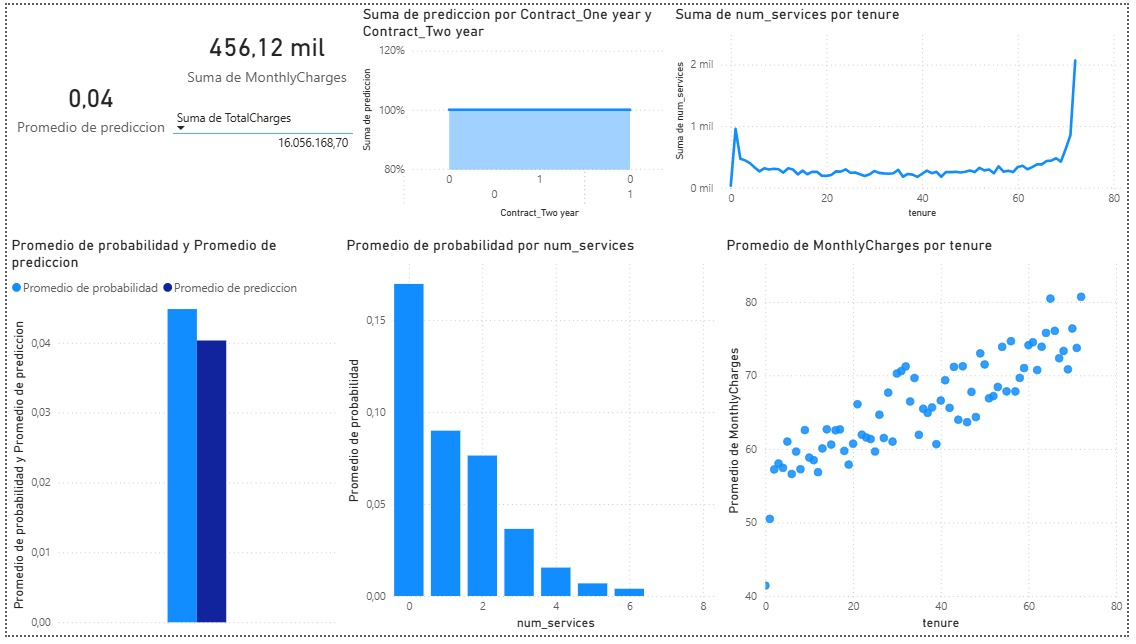

The dashboard page shown, as its layout file describes it:
{"tool":"powerbi","page":{"name":"Página 1","canvas":[1280,720],"ordinal":0},"visuals":[{"type":"card","fields":{"Values":["Avg(vw_churn_final.prediccion)"]},"box":[0,0,192.2,230],"z":0},{"type":"card","fields":{"Values":["Sum(vw_churn_final.MonthlyCharges)"]},"box":[192.2,0,208.8,115],"z":1000},{"type":"clusteredColumnChart","fields":{"Y":["Avg(vw_churn_final.probabilidad)","Avg(vw_churn_final.prediccion)"]},"box":[0,264.4,383.4,455.1],"z":2000},{"type":"clusteredColumnChart","fields":{"Category":["vw_churn_final.num_services"],"Y":["Avg(vw_churn_final.probabilidad)"]},"box":[383.4,264.4,434.3,455.1],"z":3000},{"type":"scatterChart","fields":{"Y":["Avg(vw_churn_final.MonthlyCharges)"],"X":["vw_churn_final.tenure"]},"box":[817.7,264.4,462.7,455.1],"z":4000},{"type":"tableEx","fields":{"Values":["Sum(vw_churn_final.TotalCharges)"]},"box":[183.1,113.5,217.9,98.4],"z":5000},{"type":"lineChart","fields":{"Y":["Sum(vw_churn_final.num_services)"],"Category":["vw_churn_final.tenure"]},"box":[758.8,0,521.2,248.8],"z":6000},{"type":"hundredPercentStackedAreaChart","fields":{"Category":["vw_churn_final.Contract_One year","vw_churn_final.Contract_Two year"],"Y":["Sum(vw_churn_final.prediccion)"]},"box":[401,0,357.2,248.2],"z":7000}]}

Visuals, with their boxes in screenshot pixels (x1, y1, x2, y2), scaled from the page's 1280x720 canvas onto the 1136x644 screenshot:
card - Avg(vw_churn_final.prediccion): locate(0, 0, 171, 206)
card - Sum(vw_churn_final.MonthlyCharges): locate(171, 0, 356, 103)
clusteredColumnChart - Avg(vw_churn_final.probabilidad) x Avg(vw_churn_final.prediccion): locate(0, 236, 340, 643)
clusteredColumnChart - vw_churn_final.num_services x Avg(vw_churn_final.probabilidad): locate(340, 236, 726, 643)
scatterChart - Avg(vw_churn_final.MonthlyCharges) x vw_churn_final.tenure: locate(726, 236, 1135, 643)
tableEx - Sum(vw_churn_final.TotalCharges): locate(163, 102, 356, 190)
lineChart - Sum(vw_churn_final.num_services) x vw_churn_final.tenure: locate(673, 0, 1135, 223)
hundredPercentStackedAreaChart - vw_churn_final.Contract_One year x vw_churn_final.Contract_Two year: locate(356, 0, 673, 222)
